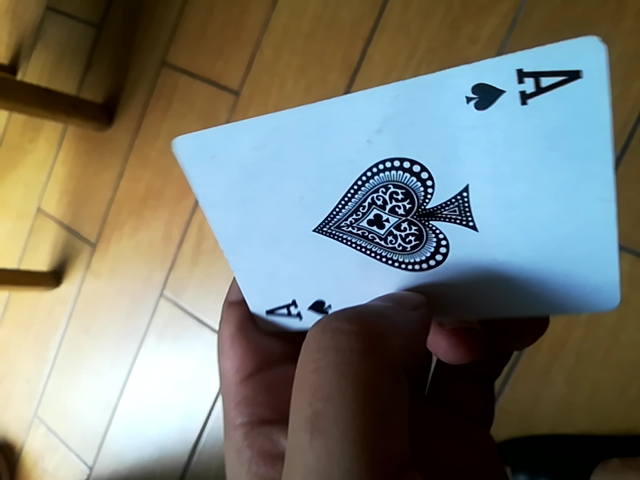ht a: (171, 40, 618, 332)
